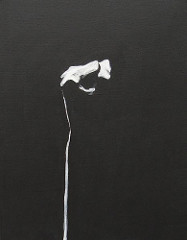fist: (57, 63, 119, 129)
